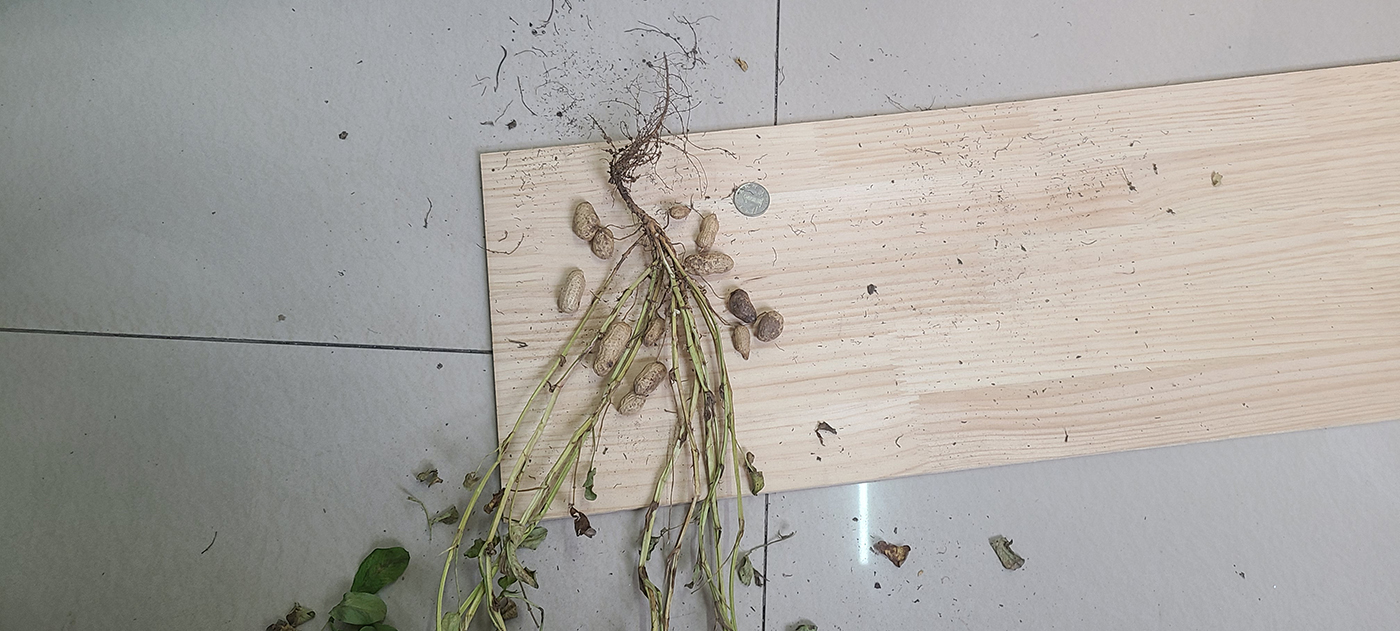h: (619, 362, 667, 417), (593, 320, 633, 376), (683, 251, 735, 275), (559, 270, 587, 314), (572, 202, 600, 240), (694, 214, 720, 250), (643, 316, 667, 345), (732, 324, 750, 362), (593, 229, 614, 260)
l: (728, 288, 757, 325), (754, 311, 784, 342)
